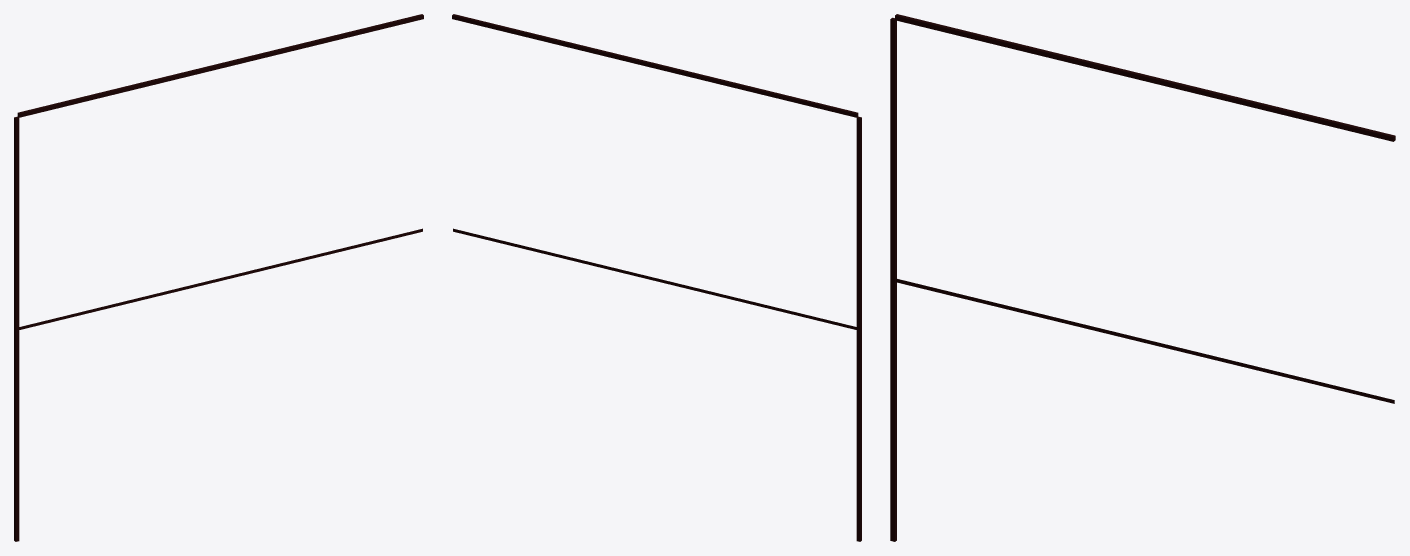
File: robocon_006.obj
3 renders of one model, left to right at view 1: azimuth 30°, elevation 25°; view 2: azimuth 150°, elevation 25°; view 3: azimuth 330°, elevation 25°, orthographic. The views are drawn at different scales.
Size of the model in its own units: 11.1 by 11.1 by 0.08.
